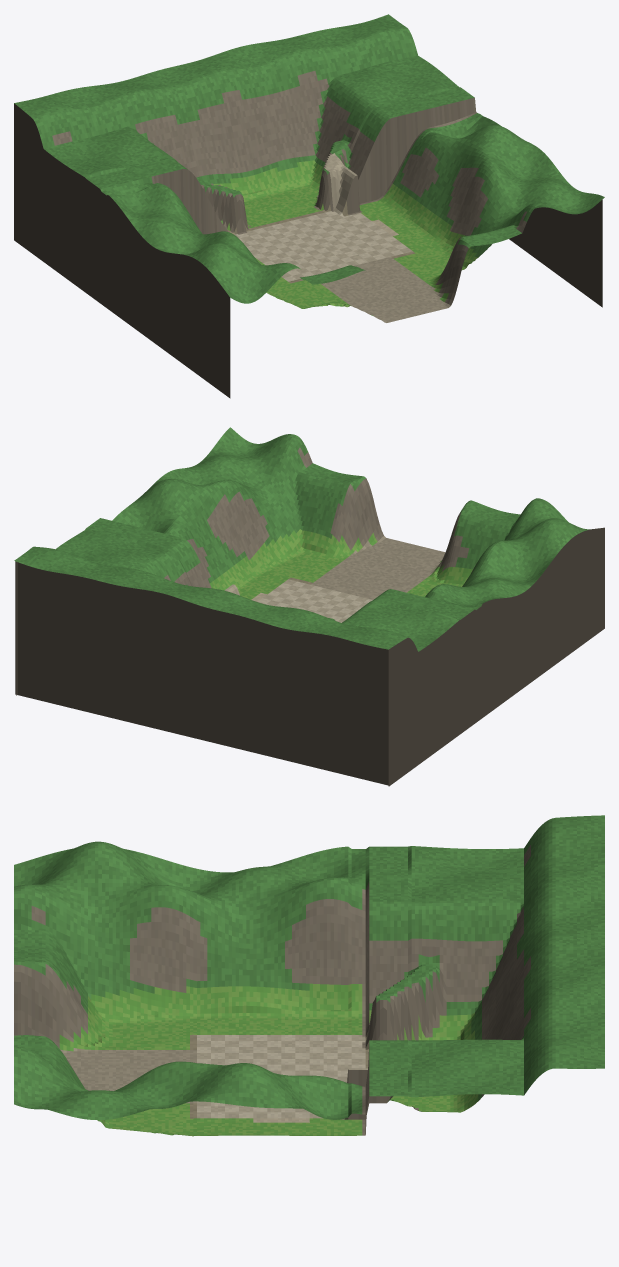
File: pass-v2-terrain.glb
The picture shows the model from 3 angles, top to bottom: view 1: azimuth 30°, elevation 25°; view 2: azimuth 150°, elevation 25°; view 3: azimuth 270°, elevation 25°; orthographic projection. The views are drawn at different scales.
Parts seen in each view (by area): view 1: V2Terrain; view 2: V2Terrain; view 3: V2Terrain.
Boxes of the visible parts, bbox=[...] form: V2Terrain: bbox=[14, 14, 604, 398]; V2Terrain: bbox=[14, 427, 604, 786]; V2Terrain: bbox=[14, 815, 604, 1136].
Bounding box in the file's own units: 84 × 29.62 × 84.
